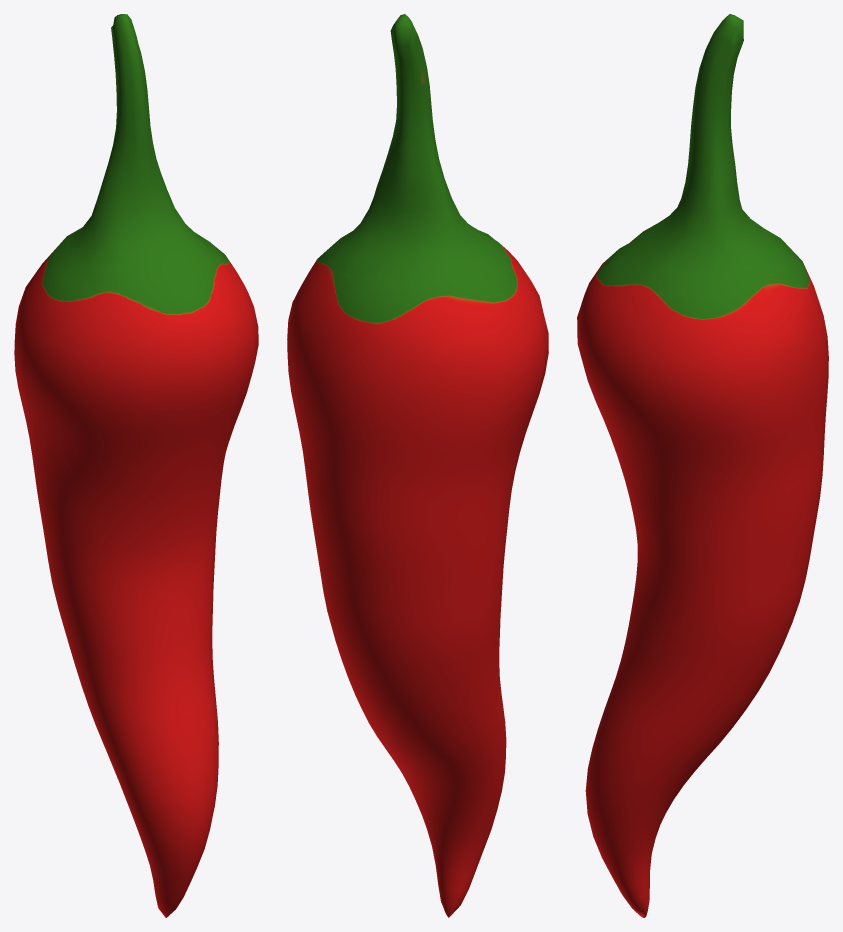
File: chilli_pepper.obj
3 views of the same model, side by side, from view 1: azimuth 30°, elevation 25°; view 2: azimuth 150°, elevation 25°; view 3: azimuth 270°, elevation 25° (orthographic). The views are drawn at different scales.
Parts seen in each view (by area): view 1: obj1; view 2: obj1; view 3: obj1.
Boxes of the visible parts, bbox=[...] form: obj1: bbox=[14, 14, 258, 917]; obj1: bbox=[287, 14, 548, 917]; obj1: bbox=[577, 14, 828, 917].
Bounding box in the file's own units: 0.2426 × 0.9469 × 0.2391.
1 material, 1 textured.
